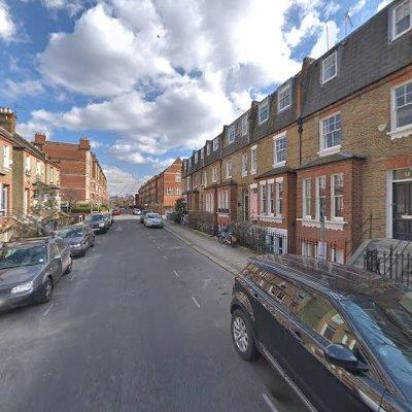stationary-bicycle-onstreet: (217, 228, 240, 250)
stationary-car-onstreet: (226, 250, 412, 412), (0, 236, 74, 316), (50, 222, 98, 260), (84, 212, 112, 232), (142, 212, 162, 228), (98, 211, 116, 227), (140, 209, 154, 225), (132, 208, 142, 216), (112, 207, 120, 215)
